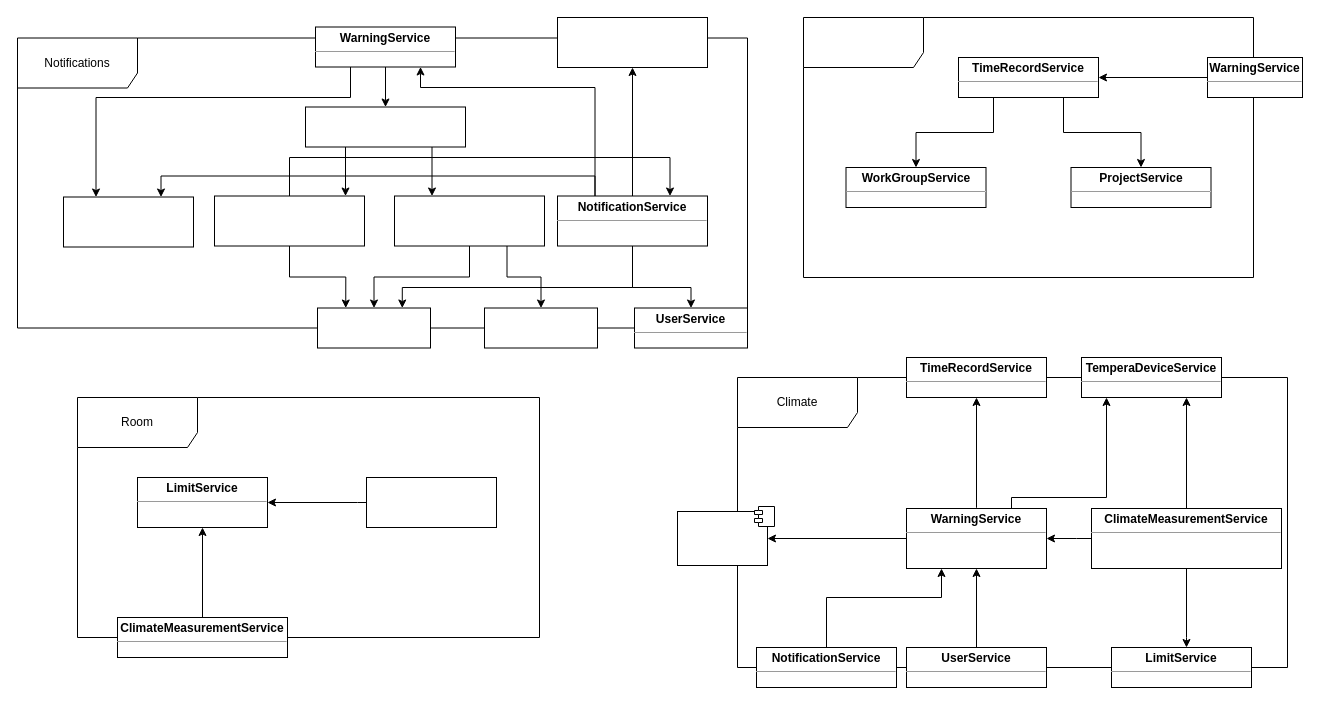
The diagram is 1320 pixels wide and 705 high, and some of its shapes have lost their labels. The box of each missing label's shape, as (x1, y1, x2, y2) in pixels:
AccessPointService: (556, 16, 708, 68)
ApplicationEventPublisher: (304, 106, 466, 147)
EmailNotificationListener: (394, 195, 544, 246)
EmailService: (484, 307, 598, 348)
ListNotificationListener: (214, 195, 364, 246)
RoomService: (366, 476, 496, 528)
TemperaService: (316, 307, 430, 348)
TimeTracking: (802, 16, 1254, 278)
TokenService: (62, 196, 194, 247)
«Component» Warning Notification: (676, 510, 768, 566)
